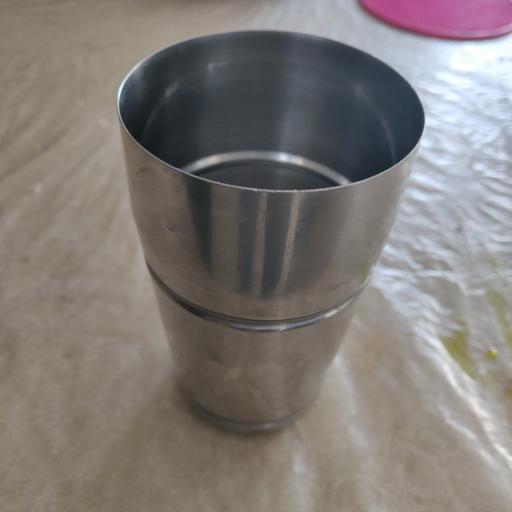glass-tumbler: (116, 30, 425, 437)
